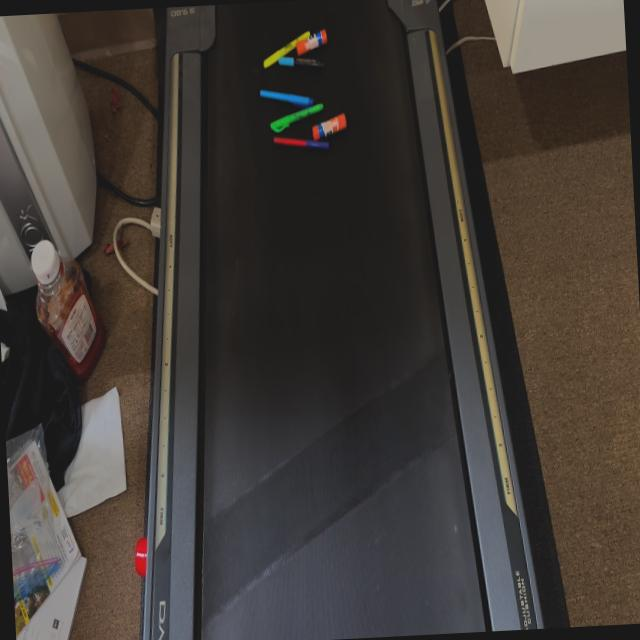Trash: (252, 80, 361, 158), (256, 18, 359, 78)
